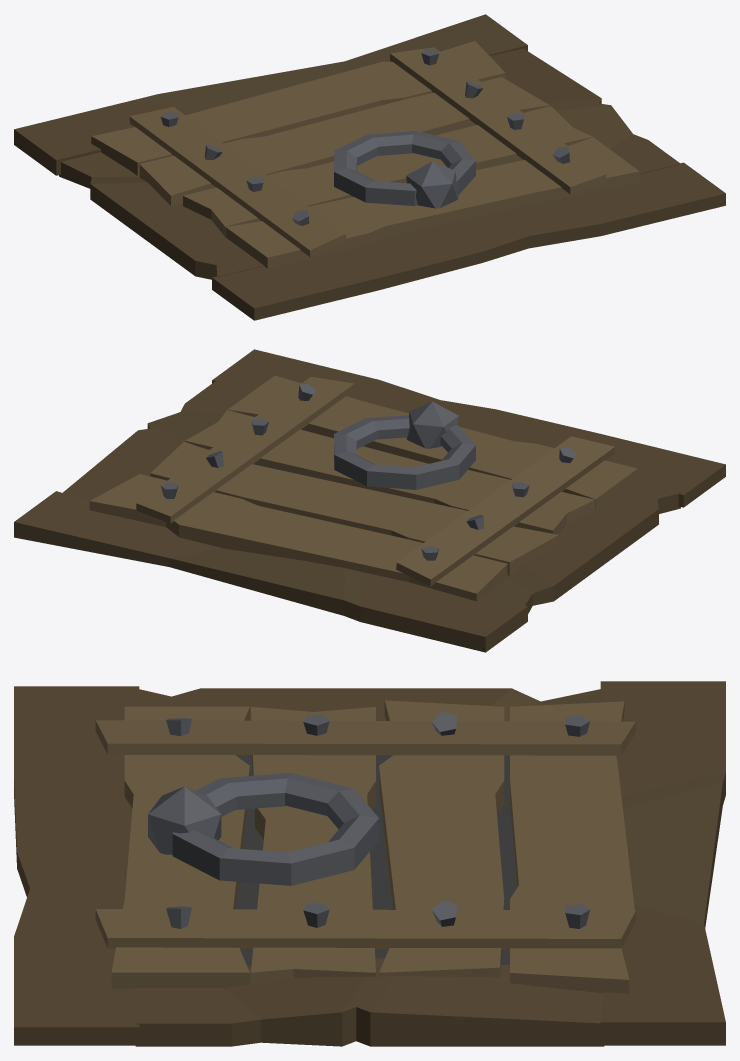
The model's file is trapdoor.glb.
3 views of the same model, one above another, from view 1: azimuth 30°, elevation 25°; view 2: azimuth 150°, elevation 25°; view 3: azimuth 270°, elevation 25° (orthographic). The views are drawn at different scales.
Visible parts, largest first — view 1: Trapdoor; view 2: Trapdoor; view 3: Trapdoor.
Boxes of the visible parts, x1,y1,x2,y2 form: Trapdoor: [14, 14, 725, 320]; Trapdoor: [14, 349, 725, 652]; Trapdoor: [14, 681, 725, 1046].
Size of the model in its own units: 1.7 by 0.2152 by 1.5.
